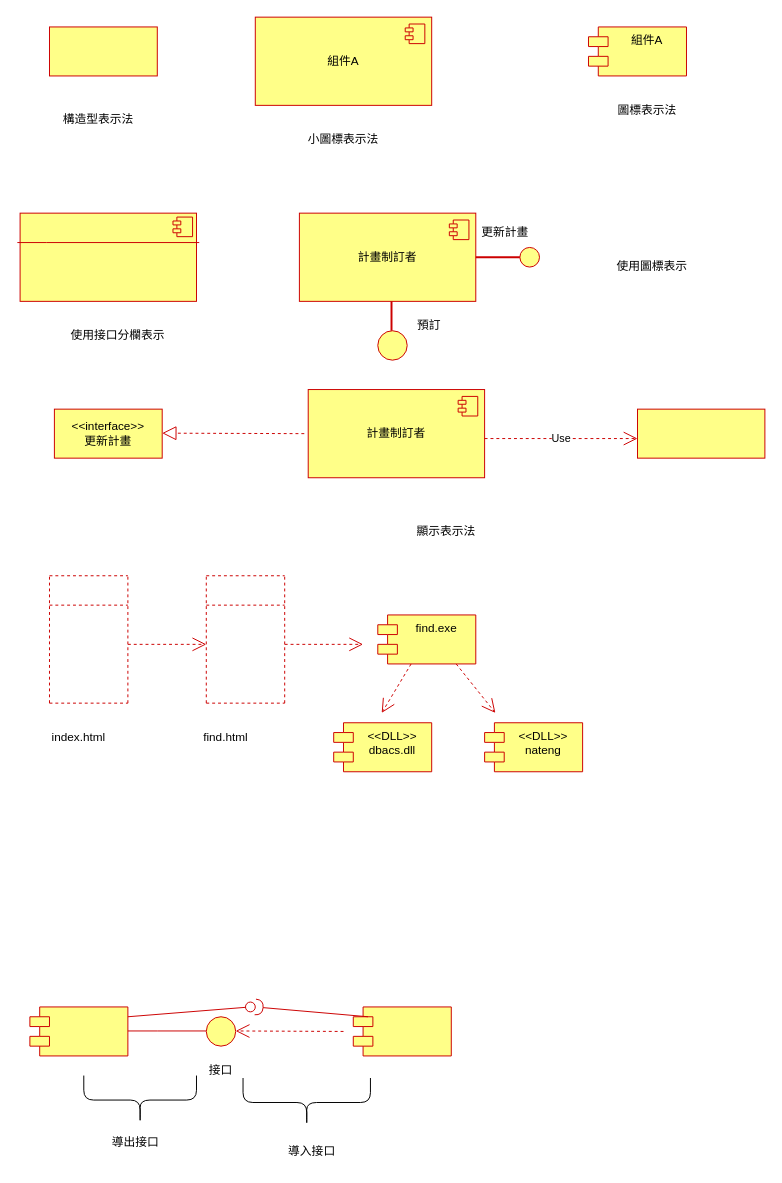
Image size: 782x1183. Some labels were removed from this diagram. Here are the shapes that lost their labels. From the top down, the centre of each, then its label:
pixel 103 51: «component» 組件A
pixel 107 256: 計畫制定者 <<provided>>更新計畫 <<required>>預訂
pixel 701 433: <<interface>> 預定
pixel 78 1031: 構件1
pixel 401 1031: 構件2
